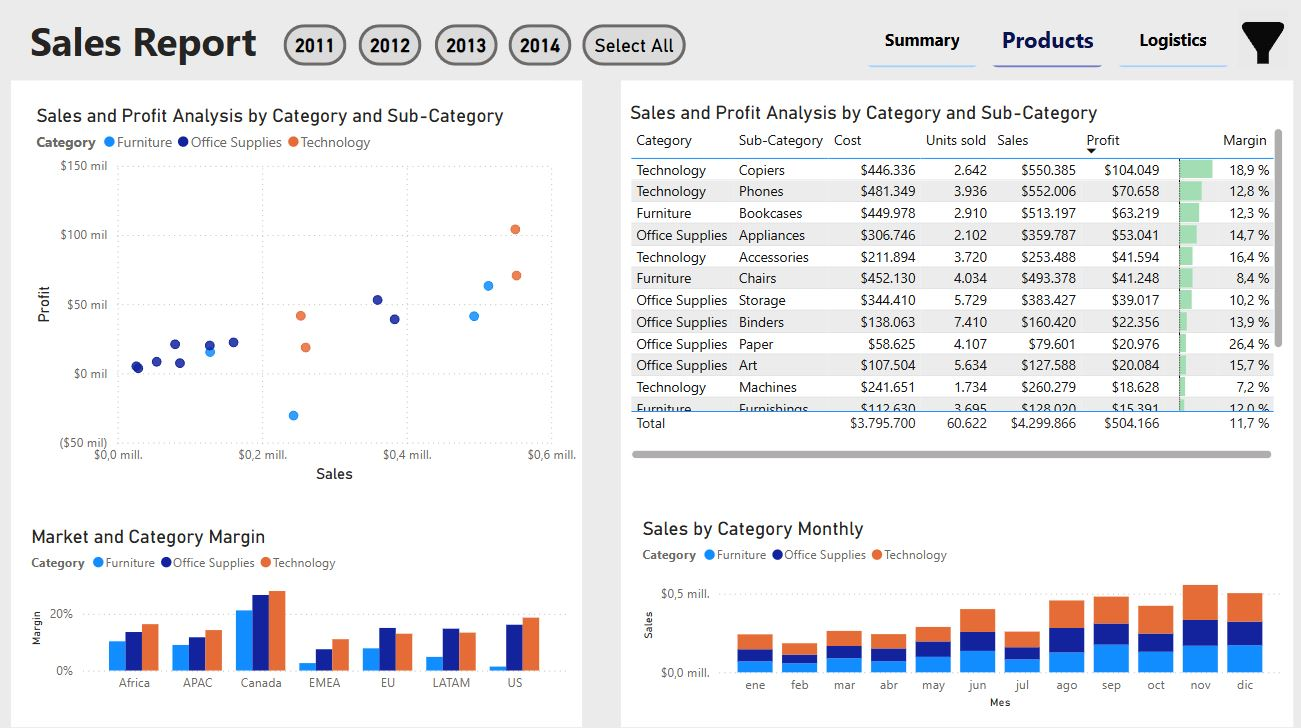

This screenshot's page, from the dashboard's own definition file:
{"tool":"powerbi","page":{"name":"Products","canvas":[1280,720],"ordinal":1},"visuals":[{"type":"shape","box":[1207.6,28.2,49.9,38],"z":0,"group":"g1"},{"type":"actionButton","box":[286.7,30,60.8,40],"z":0,"group":"g2"},{"type":"shape","box":[612.5,85,648.8,623.8],"z":0},{"type":"actionButton","box":[359.6,30,60.8,40],"z":1000,"group":"g2"},{"type":"shape","box":[1227,39.4,11.1,30],"z":1000,"group":"g1"},{"type":"tableEx","title":"Sales and Profit Analysis by Category and Sub-Category","fields":{"Values":["Global-Superstore.Category","Global-Superstore.Sub-Category","Global-Superstore.Cost","Global-Superstore.Quantity","Global-Superstore.Sales","Global-Superstore.SUM_Profit","Sum(Global-Superstore.Profit)","Global-Superstore.Margin"]},"box":[616.2,105,640,350],"z":1000},{"type":"group","id":"g1","title":"Slicer forma","box":[1207.6,28.2,49.9,41.2],"z":2000},{"type":"actionButton","box":[432.6,30,60.8,40],"z":2000,"group":"g2"},{"type":"actionButton","title":"Abrir Slicer ","box":[1208.1,15.6,48.7,57.4],"z":3000},{"type":"actionButton","box":[504.3,30,60.8,40],"z":3000,"group":"g2"},{"type":"shape","box":[23.8,85,551.2,623.8],"z":4000},{"type":"textbox","box":[37.1,15.7,250,67.1],"z":5000},{"type":"scatterChart","title":"Sales and Profit Analysis by Category and Sub-Category","fields":{"X":["Sum(Global-Superstore.Sales)"],"Y":["Sum(Global-Superstore.Profit)"],"Series":["Global-Superstore.Category"],"Category":["Global-Superstore.Sub-Category"]},"box":[43.8,107.5,531.2,370],"z":6000},{"type":"pageNavigator","box":[848.2,17.4,354.6,55.6],"z":7000},{"type":"clusteredColumnChart","title":"Market and Category Margin","fields":{"Y":["Global-Superstore.Margin"],"Series":["Global-Superstore.Category"],"Category":["Global-Superstore.Market"]},"box":[38.8,513.8,526.2,170],"z":8000},{"type":"columnChart","title":"Sales by Category Monthly","fields":{"Y":["Sum(Global-Superstore.Sales)"],"Series":["Global-Superstore.Category"],"Category":["DateTable.Date Jerarquía.Mes"]},"box":[628.8,506.2,626.2,188.8],"z":9000},{"type":"group","id":"g2","title":"Grupo 1","box":[286.7,30,278.3,40],"z":11000},{"type":"actionButton","box":[575,30,100,40],"z":12000}]}

Visuals, with their boxes in screenshot pixels (x1, y1, x2, y2), scaled from the page's 1280x720 canvas onto the 1301x728 screenshot:
shape: crop(1227, 29, 1278, 67)
actionButton: crop(291, 30, 353, 71)
shape: crop(623, 86, 1282, 717)
actionButton: crop(365, 30, 427, 71)
shape: crop(1247, 40, 1258, 70)
"Sales and Profit Analysis by Category and Sub-Category" tableEx: crop(626, 106, 1277, 460)
"Slicer forma" group: crop(1227, 29, 1278, 70)
actionButton: crop(440, 30, 501, 71)
"Abrir Slicer " actionButton: crop(1228, 16, 1277, 74)
actionButton: crop(513, 30, 574, 71)
shape: crop(24, 86, 584, 717)
textbox: crop(38, 16, 292, 84)
"Sales and Profit Analysis by Category and Sub-Category" scatterChart: crop(45, 109, 584, 483)
pageNavigator: crop(862, 18, 1223, 74)
"Market and Category Margin" clusteredColumnChart: crop(39, 520, 574, 691)
"Sales by Category Monthly" columnChart: crop(639, 512, 1276, 703)
"Grupo 1" group: crop(291, 30, 574, 71)
actionButton: crop(584, 30, 686, 71)
